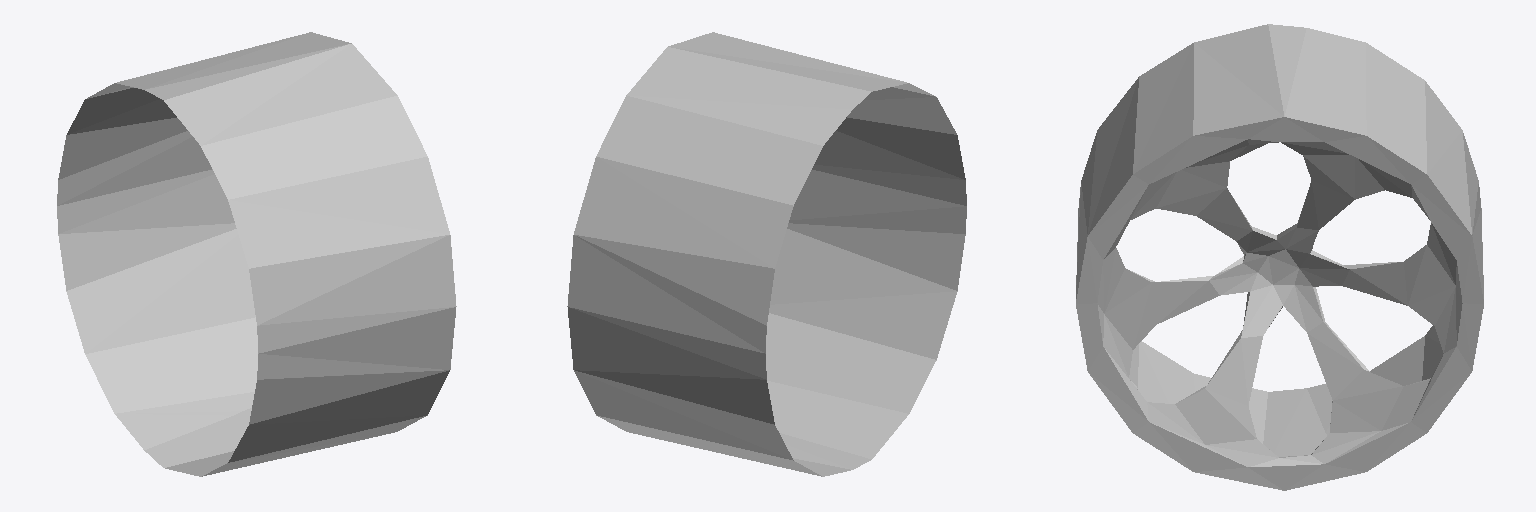
The model's file is vision_gt_rear_wheel.obj.
3 renders of one model, left to right at view 1: azimuth 30°, elevation 25°; view 2: azimuth 150°, elevation 25°; view 3: azimuth 270°, elevation 25°, orthographic.
Parts seen in each view (by area): view 1: Circle.003; view 2: Circle.003; view 3: Circle.003.
Boxes of the visible parts, x1,y1,x2,y2 form: Circle.003: [57, 32, 456, 476]; Circle.003: [567, 32, 966, 476]; Circle.003: [1076, 24, 1483, 490].
Size of the model in its own units: 0.3281 by 0.5959 by 0.5904.